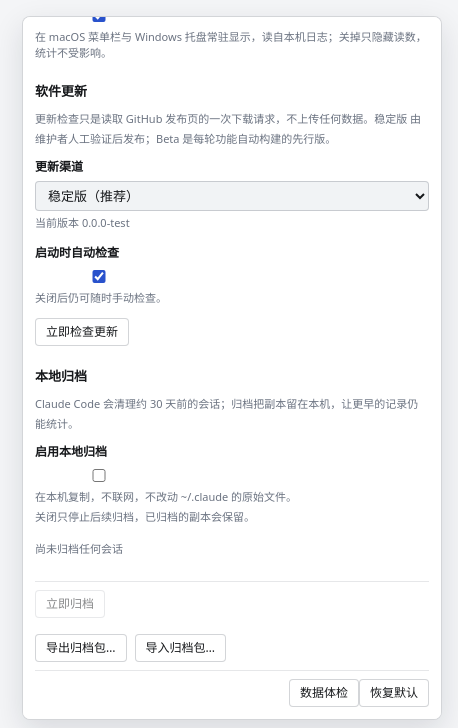
Test case: ThresholdsPanel › restores the defaults and disables the reset button afterwards
(page scrolled)
Click the button "恢复默认": (394, 693) [359,679,429,707]
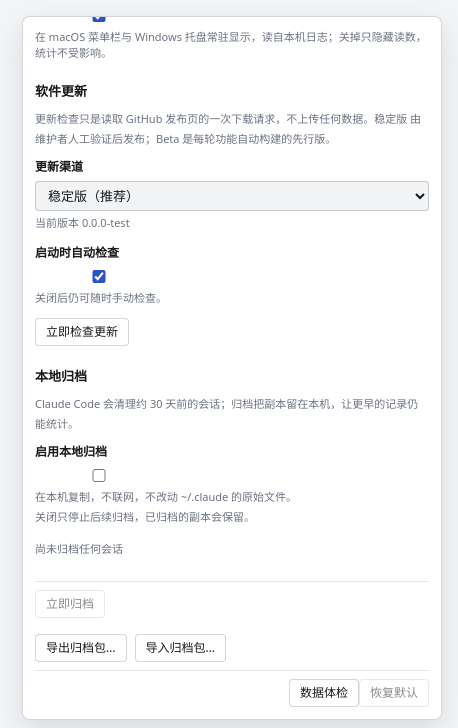
Result: the button "恢复默认" is disabled at [359,679,429,707]
